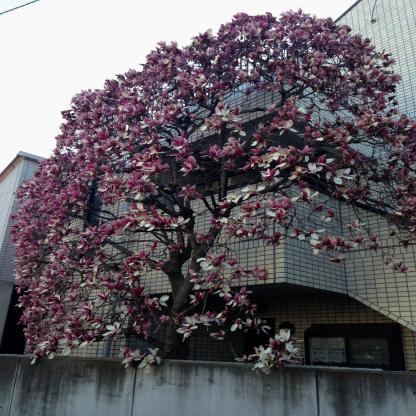Mokuren: (9, 7, 416, 376)
